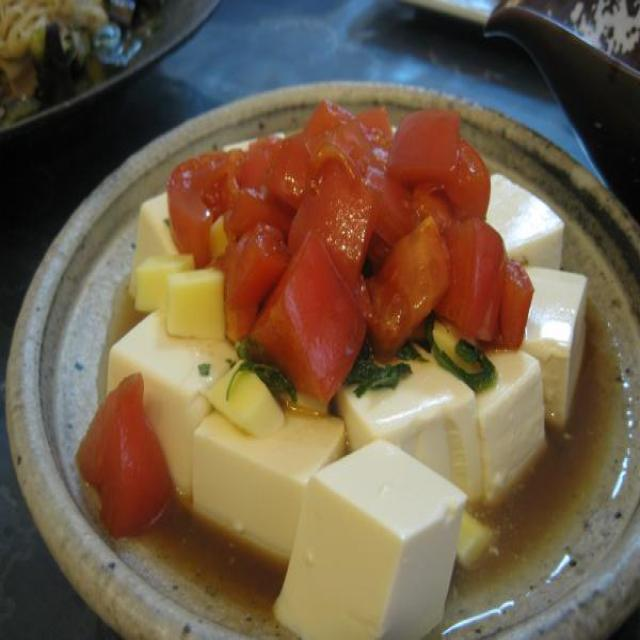豆腐料理: (70, 98, 586, 640)
